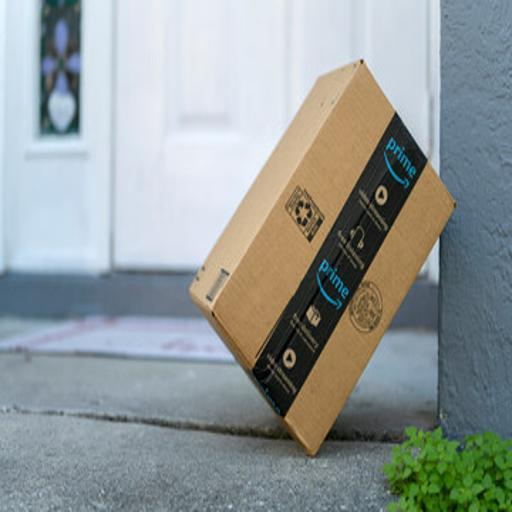Amazon: (190, 58, 462, 460)
